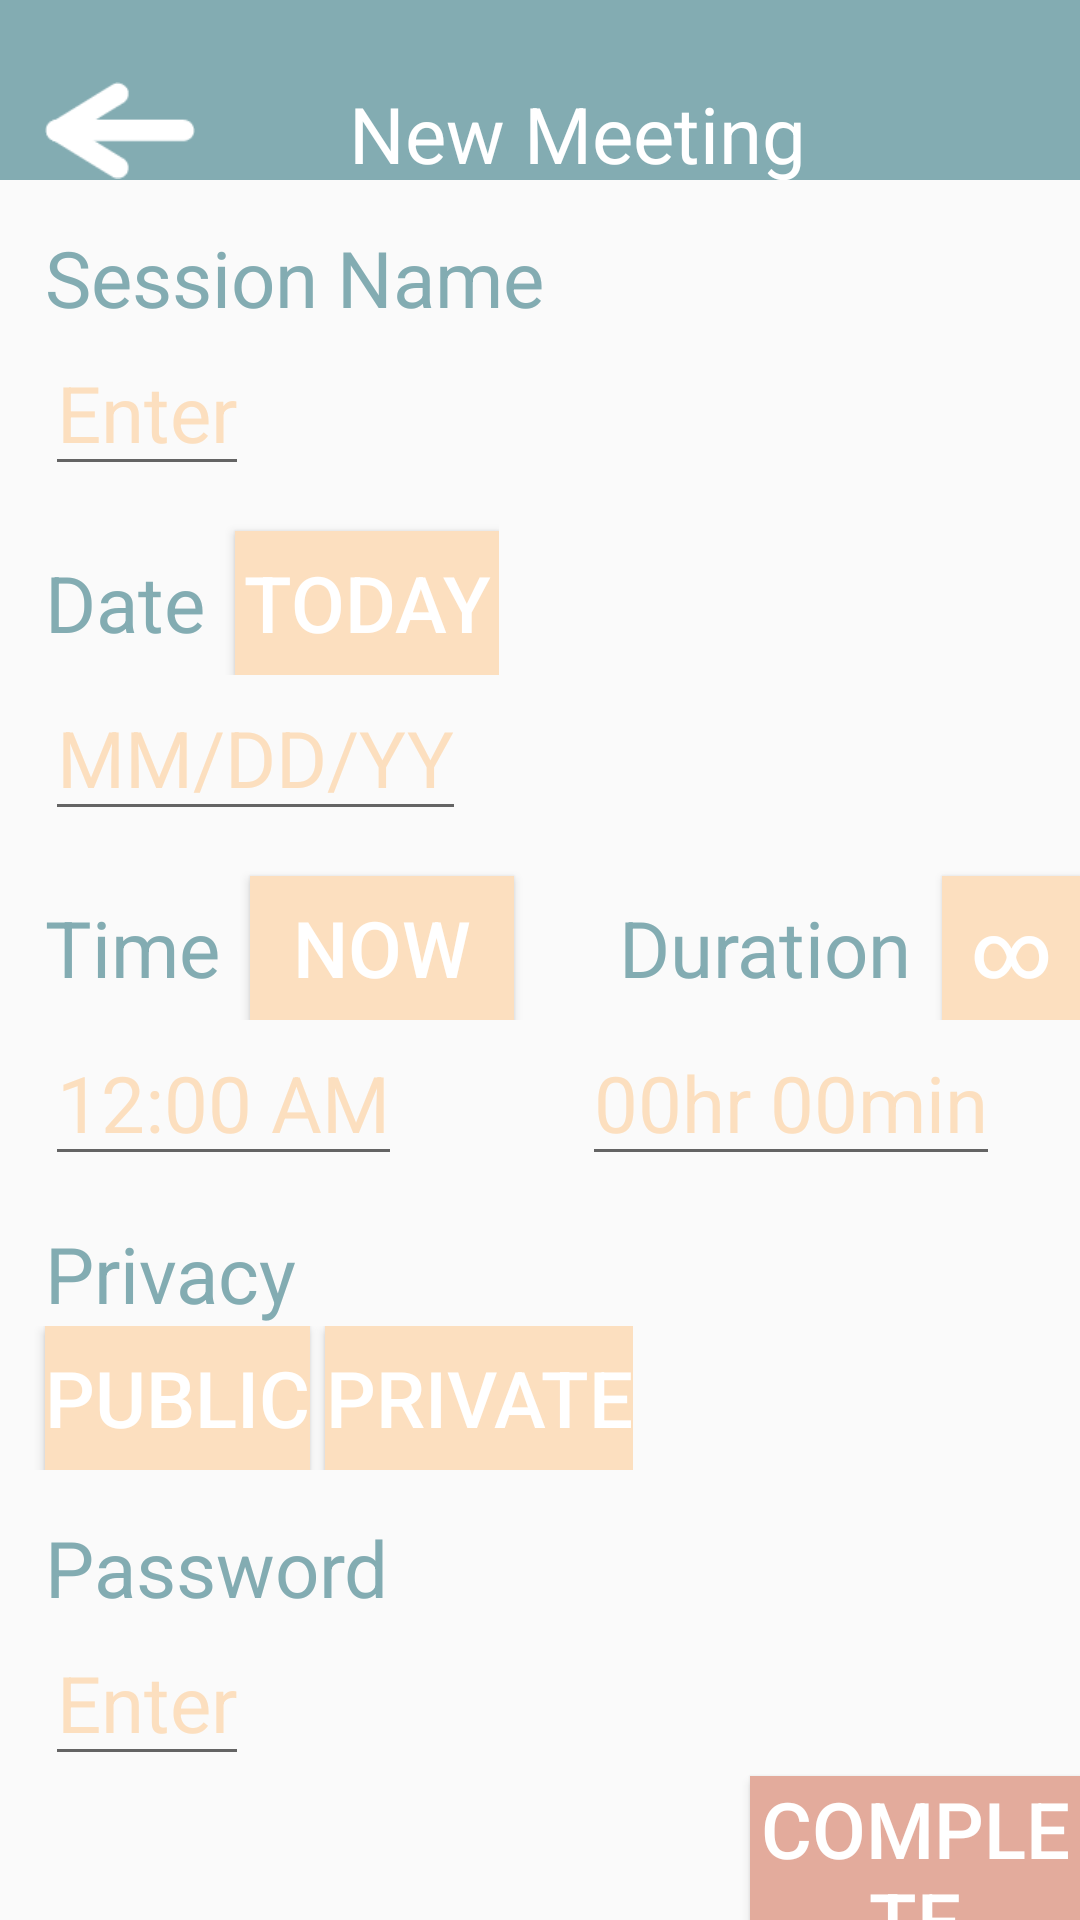

Named icons in this screenshot (1080w x 1920h) and their bounding boxes, (x1, y1, x2, y2):
arrow: (45, 82, 195, 179)
